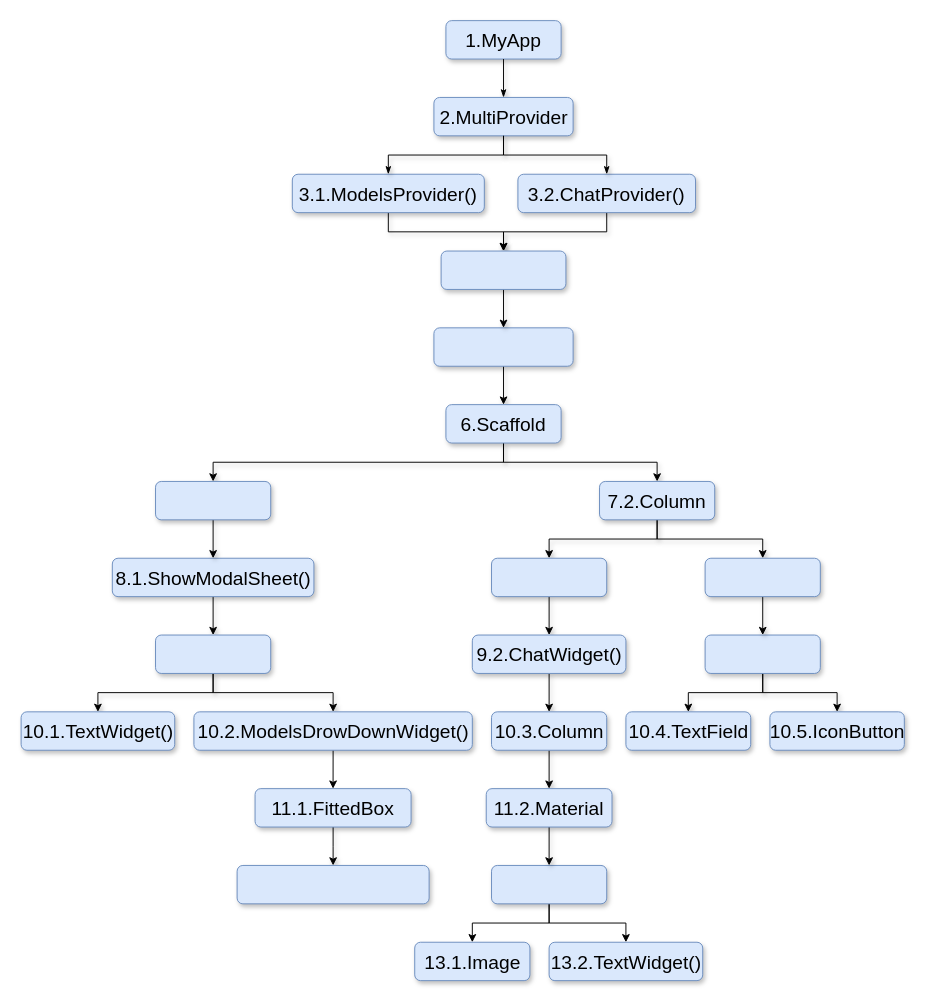
Image size: 926x1004. Some labels were removed from this diagram. Here are the shapes that lost their labels. From the top down, the centre of each, then its label:
(x=504, y=271): 4.MaterialApp
(x=504, y=348): 5.ChatScreen()
(x=213, y=502): 7.1.AppBar
(x=549, y=578): 8.2.ListView
(x=763, y=578): 8.3.Material
(x=213, y=655): 9.1.Row
(x=763, y=655): 9.3.Row
(x=333, y=886): 12.1.DropdownButton
(x=549, y=886): 12.2.Row
